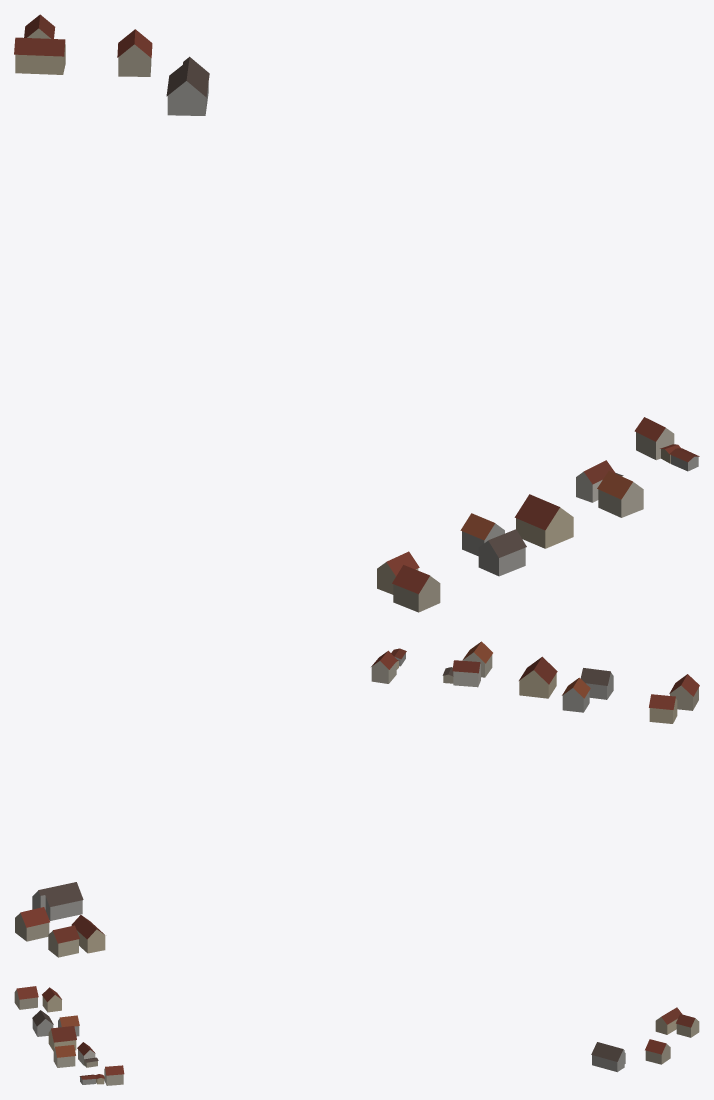
3 views of the same model, one above another, from view 1: azimuth 30°, elevation 25°; view 2: azimuth 150°, elevation 25°; view 3: azimuth 270°, elevation 25° (orthographic). The views are drawn at different scales.
Visible parts, largest first — view 1: buildings; view 2: buildings; view 3: buildings.
Boxes of the visible parts, <box> form: buildings: <box>14,14,699,612</box>; buildings: <box>15,641,699,957</box>; buildings: <box>14,986,699,1085</box>.
Bounding box in the file's own units: 113 × 28.22 × 346.
